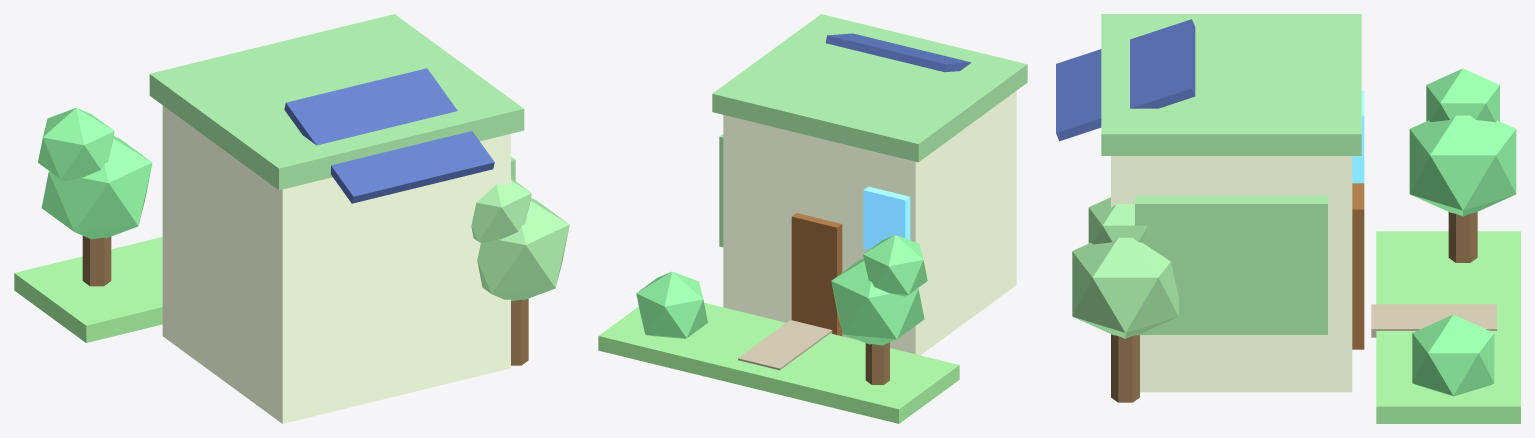
File: res_eco_1.glb
3 views of the same model, side by side, from view 1: azimuth 30°, elevation 25°; view 2: azimuth 150°, elevation 25°; view 3: azimuth 270°, elevation 25° (orthographic). The views are drawn at different scales.
Visible parts, largest first — view 1: res_eco_1; view 2: res_eco_1; view 3: res_eco_1.
Part boxes in pixels (x1,y1,x2,y2): res_eco_1: (14, 14, 569, 423); res_eco_1: (598, 14, 1027, 423); res_eco_1: (1056, 14, 1520, 423).
Bounding box in the file's own units: 0.8605 × 0.6567 × 0.9641.
